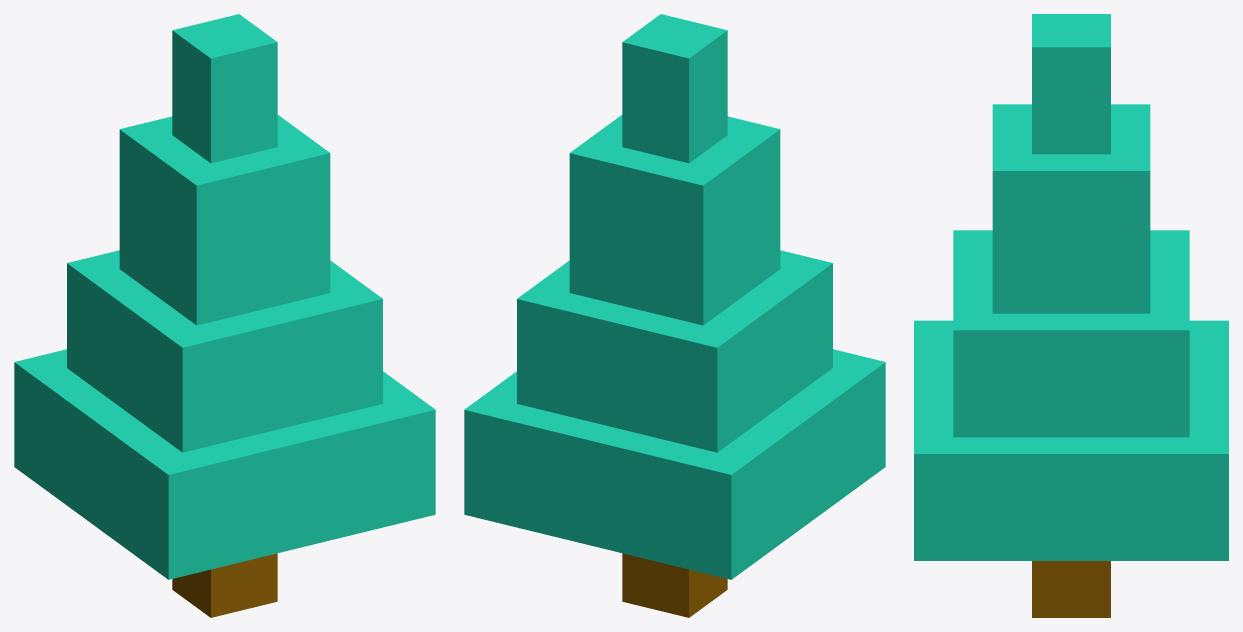
The model's file is tree.gltf.
3 renders of one model, left to right at view 1: azimuth 30°, elevation 25°; view 2: azimuth 150°, elevation 25°; view 3: azimuth 270°, elevation 25°, orthographic. The views are drawn at different scales.
Parts seen in each view (by area): view 1: Content-Mesh; view 2: Content-Mesh; view 3: Content-Mesh.
Boxes of the visible parts, box(x1,y1,x2,y2) form: Content-Mesh: box(14, 14, 435, 617); Content-Mesh: box(464, 14, 885, 617); Content-Mesh: box(914, 14, 1228, 617).
Bounding box in the file's own units: 8 × 16 × 8.
1 material, 1 textured.
